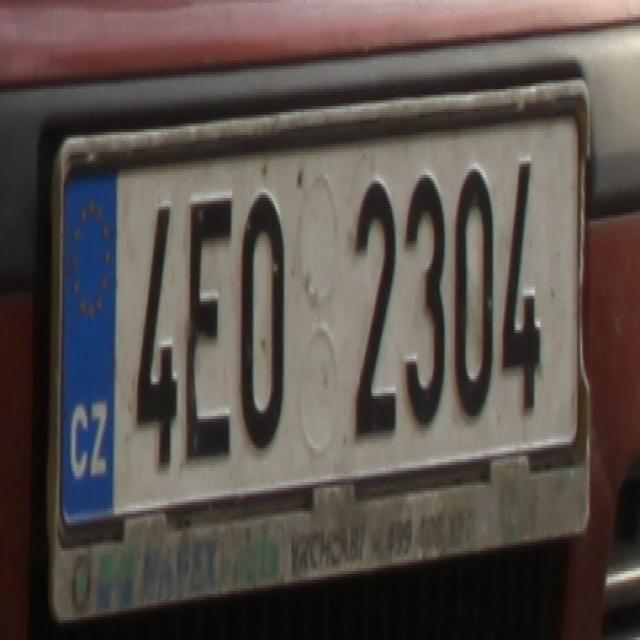0: (237, 186, 286, 465), (452, 158, 494, 422)
2: (349, 164, 397, 436)
3: (401, 164, 445, 436)
4: (129, 195, 179, 474), (499, 152, 545, 428)
E: (185, 186, 233, 474)
